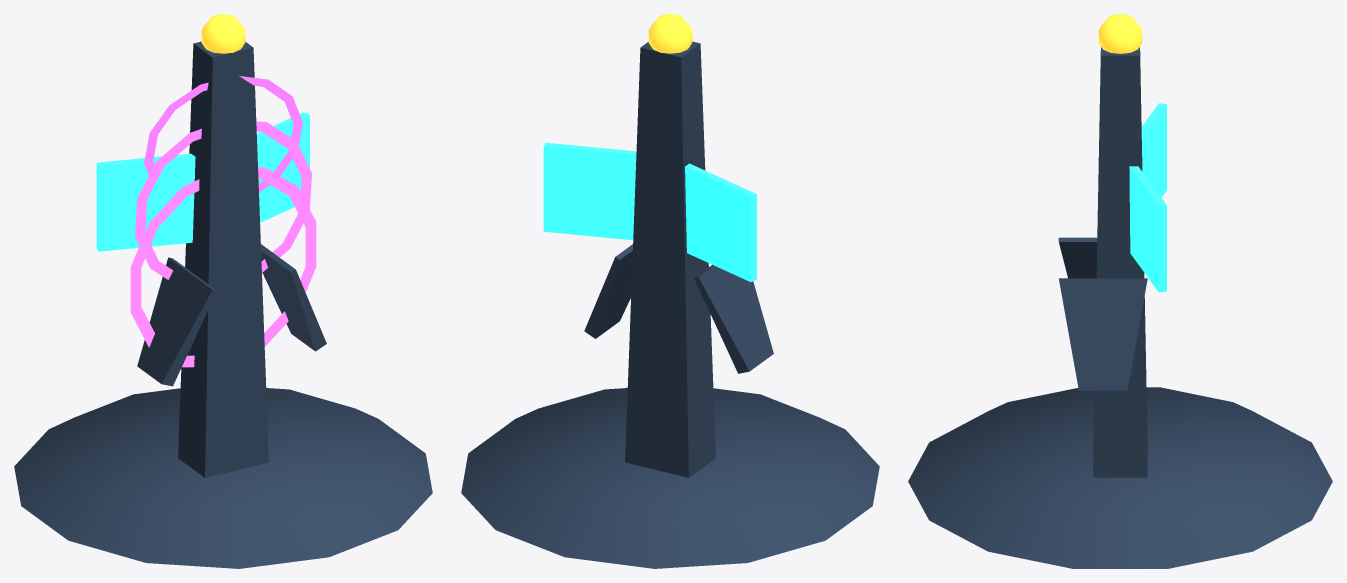
File: command-horizon-wayfinding-lod1.glb
3 renders of one model, left to right at view 1: azimuth 30°, elevation 25°; view 2: azimuth 150°, elevation 25°; view 3: azimuth 270°, elevation 25°, orthographic.
Visible parts, largest first — view 1: wayfinding-base, wayfinding-spine, wayfinding-panel--1, wayfinding-wing--1, wayfinding-ring-0, wayfinding-ring-1, wayfinding-wing-1, wayfinding-panel-1, wayfinding-ring-2, wayfinding-beacon; view 2: wayfinding-base, wayfinding-spine, wayfinding-panel-1, wayfinding-panel--1, wayfinding-wing--1, wayfinding-wing-1, wayfinding-beacon; view 3: wayfinding-base, wayfinding-spine, wayfinding-wing-1, wayfinding-panel-1, wayfinding-panel--1, wayfinding-beacon, wayfinding-wing--1.
Part boxes in pixels (x1=…): wayfinding-base: x1=14, y1=388, x2=432, y2=568; wayfinding-spine: x1=178, y1=41, x2=268, y2=477; wayfinding-panel--1: x1=96, y1=153, x2=195, y2=251; wayfinding-wing--1: x1=137, y1=257, x2=216, y2=386; wayfinding-ring-0: x1=130, y1=167, x2=316, y2=367; wayfinding-ring-1: x1=135, y1=121, x2=311, y2=279; wayfinding-wing-1: x1=261, y1=244, x2=326, y2=351; wayfinding-panel-1: x1=256, y1=112, x2=309, y2=222; wayfinding-ring-2: x1=144, y1=76, x2=302, y2=192; wayfinding-beacon: x1=201, y1=14, x2=245, y2=53; wayfinding-base: x1=461, y1=388, x2=879, y2=568; wayfinding-spine: x1=625, y1=41, x2=715, y2=477; wayfinding-panel-1: x1=543, y1=142, x2=636, y2=240; wayfinding-panel--1: x1=685, y1=163, x2=756, y2=281; wayfinding-wing--1: x1=694, y1=265, x2=773, y2=373; wayfinding-wing-1: x1=584, y1=244, x2=632, y2=338; wayfinding-beacon: x1=648, y1=14, x2=692, y2=53; wayfinding-base: x1=908, y1=387, x2=1332, y2=568; wayfinding-spine: x1=1093, y1=47, x2=1147, y2=477; wayfinding-wing-1: x1=1059, y1=278, x2=1147, y2=390; wayfinding-panel-1: x1=1129, y1=166, x2=1166, y2=292; wayfinding-panel--1: x1=1141, y1=103, x2=1166, y2=197; wayfinding-beacon: x1=1098, y1=14, x2=1142, y2=53; wayfinding-wing--1: x1=1058, y1=237, x2=1097, y2=278.
Bounding box in the file's own units: 2.89 × 3.58 × 2.96.
